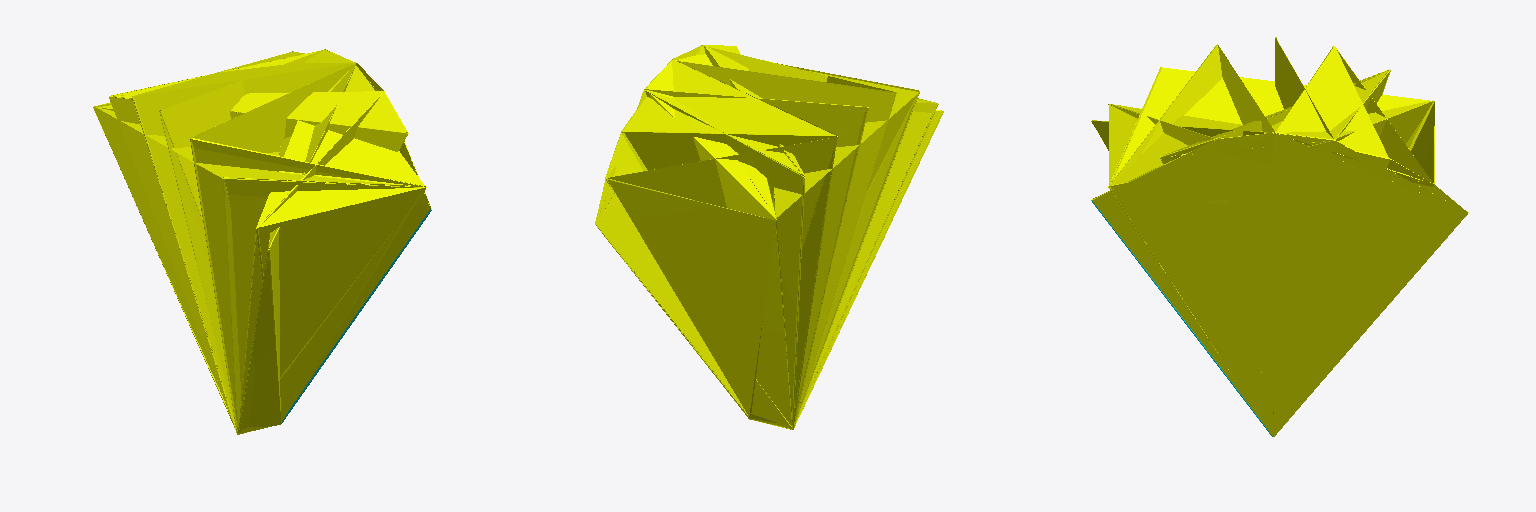
Rendered from Parachute.obj.
3 renders of one model, left to right at view 1: azimuth 30°, elevation 25°; view 2: azimuth 150°, elevation 25°; view 3: azimuth 270°, elevation 25°, orthographic.
Parts seen in each view (by area): view 1: Box20179; view 2: Box20179; view 3: Box20179.
Part boxes in pixels (left/top/right/bottom): Box20179: left=93, top=49, right=431, bottom=434; Box20179: left=595, top=45, right=943, bottom=429; Box20179: left=1091, top=37, right=1468, bottom=437.
Size of the model in its own units: 3023 by 4999 by 5001.